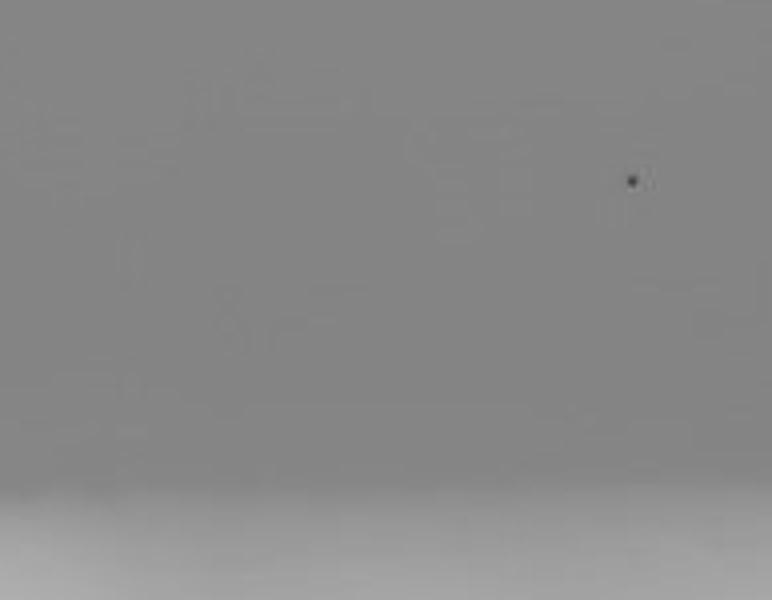defect: (622, 172, 642, 192)
